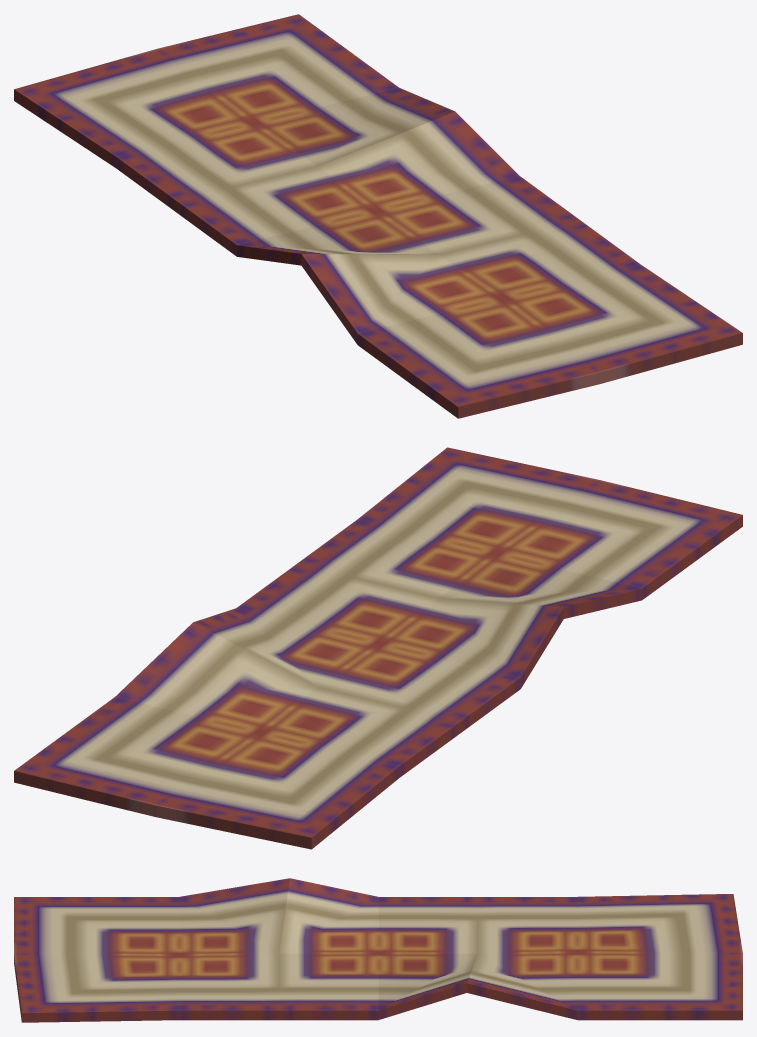
File: SM_Prop_Rug_03.fbx
3 renders of one model, top to bottom at view 1: azimuth 30°, elevation 25°; view 2: azimuth 150°, elevation 25°; view 3: azimuth 270°, elevation 25°, orthographic. The views are drawn at different scales.
Visible parts, largest first — view 1: SM_Prop_Rug_03; view 2: SM_Prop_Rug_03; view 3: SM_Prop_Rug_03.
Part boxes in pixels (x1,y1,x2,y2): SM_Prop_Rug_03: (14,14,742,418); SM_Prop_Rug_03: (14,447,742,849); SM_Prop_Rug_03: (14,878,742,1022).
Size of the model in its own units: 109 by 13.87 by 282.
